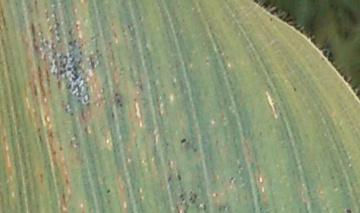tarspot: (28, 22, 40, 52), (69, 84, 82, 98), (61, 54, 71, 69), (83, 85, 91, 101), (88, 55, 96, 70), (66, 26, 75, 39), (82, 124, 91, 136), (55, 78, 63, 91), (70, 71, 79, 82), (175, 171, 183, 182), (165, 174, 173, 185), (227, 175, 235, 186), (75, 57, 84, 66), (136, 14, 144, 24), (136, 82, 144, 92), (178, 137, 187, 145), (109, 110, 117, 119), (125, 23, 133, 32), (51, 66, 57, 78), (43, 37, 50, 47), (50, 41, 56, 52), (57, 144, 65, 152), (178, 191, 185, 200), (69, 55, 76, 64), (328, 173, 335, 182), (343, 207, 353, 213), (54, 21, 60, 31), (201, 202, 207, 212), (104, 188, 112, 195), (68, 111, 75, 119), (58, 68, 66, 75), (191, 146, 198, 154), (74, 98, 82, 105), (292, 85, 298, 94), (74, 22, 81, 29), (88, 35, 95, 42), (55, 31, 61, 39), (268, 16, 274, 23), (118, 102, 124, 109), (113, 91, 119, 98), (85, 101, 91, 108), (66, 66, 72, 73), (187, 195, 193, 202), (106, 40, 112, 47), (67, 40, 72, 48), (78, 49, 83, 57), (53, 58, 58, 66), (32, 1, 38, 7), (192, 193, 198, 199), (94, 47, 99, 54)
